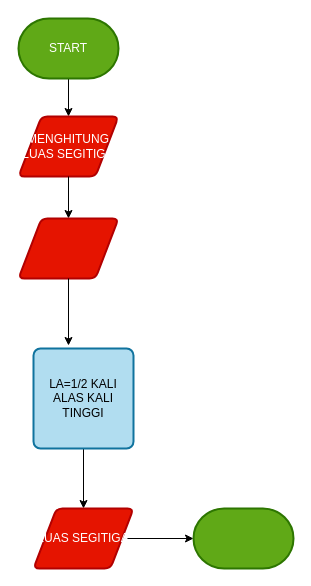
The diagram is 311 pixels wide and 586 high, and some of its shapes have lost their labels. Here are the shapes that lost their labels. From the top down, the centre of each, then its label:
At point (68, 248): "LA 1/2 ALAS TINGGI".
At point (243, 538): "FINISH".
